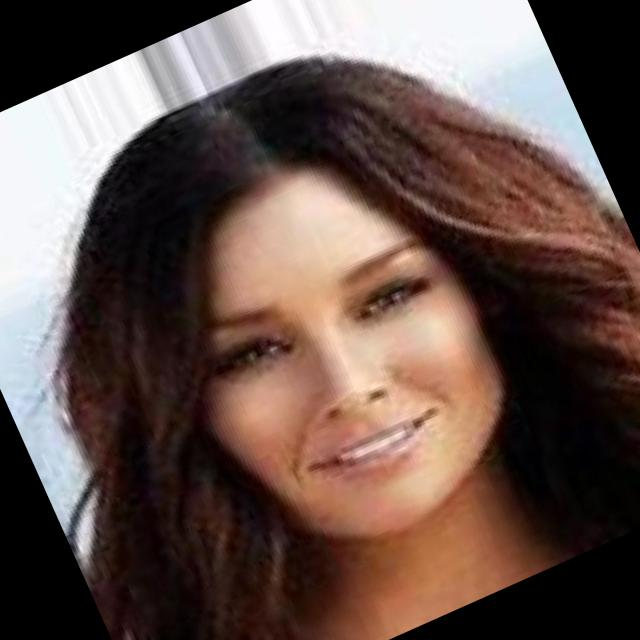bareface: (35, 28, 592, 591)
